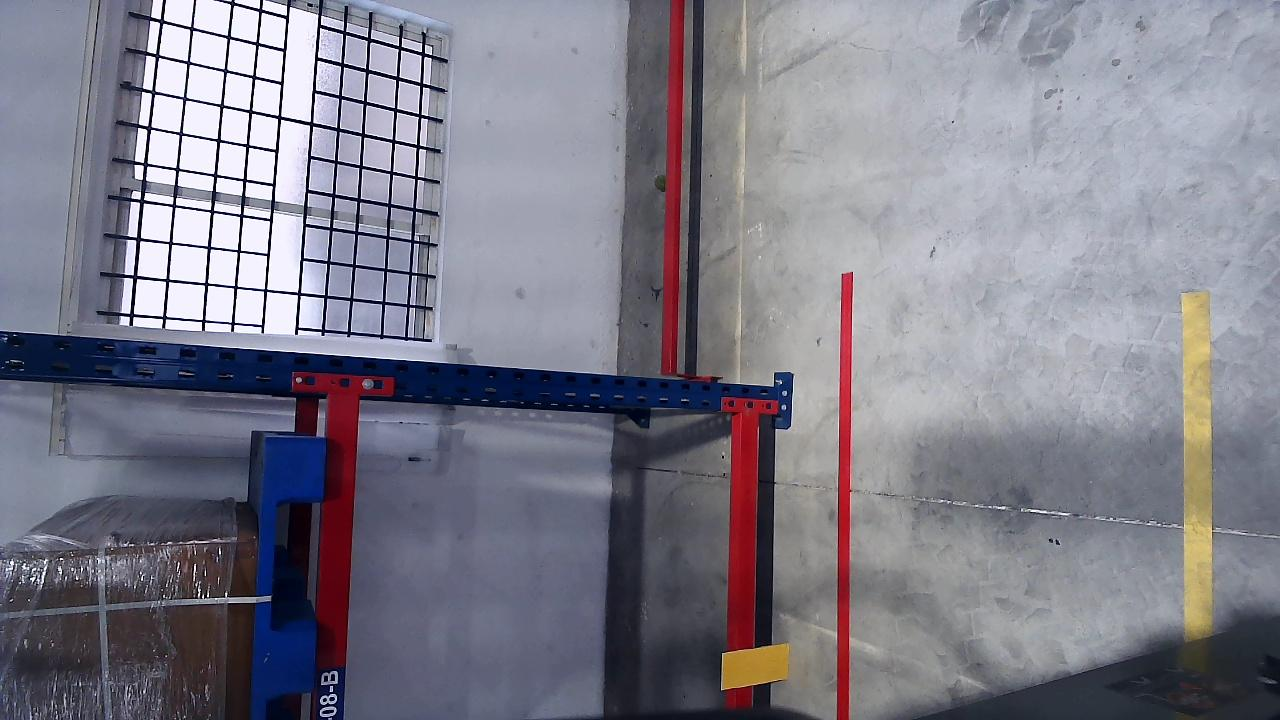h_rack: (309, 393, 363, 719), (729, 412, 762, 712)
orange_strip: (720, 643, 789, 688)
red_line: (835, 266, 854, 719)
small_pallet: (249, 435, 327, 718)
yellow_line: (1182, 298, 1214, 635)
